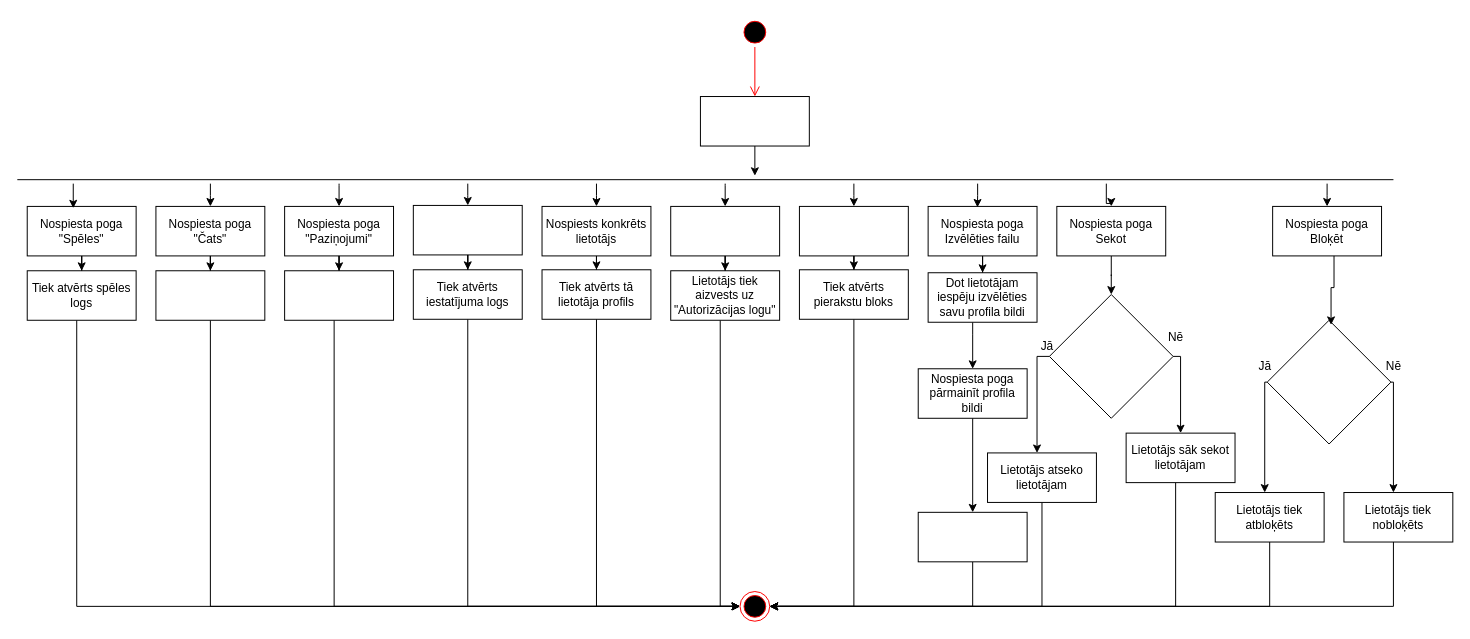
Some shapes in this 1470 by 639 pixel diagram are drawn without their labels. The centre of each missing label's shape, as x and y in pixels:
"Profils": (754,121)
Nomainās profila bilde: (972,536)
Nospiesta poga "Atslēgties": (725,230)
Nospiesta poga "Iestatījumi": (467,229)
Nospiesta poga "Piezīmju grāmatiņa": (853,230)
Tiek atvērts paziņojumu logs: (339,295)
Tiek atvērts čats: (210,295)
Vai lietotajs jau seko šim lietotājam?: (1110,356)
Vai lietotājs jau ir bloķēts?: (1328,381)
